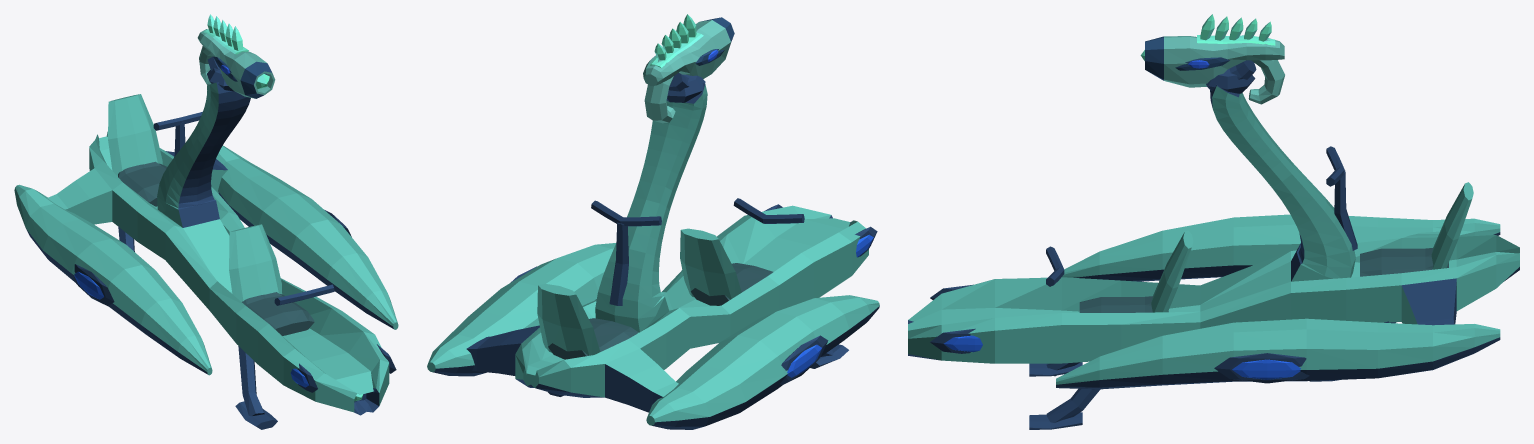
The picture shows the model from 3 angles, left to right: view 1: azimuth 30°, elevation 25°; view 2: azimuth 150°, elevation 25°; view 3: azimuth 270°, elevation 25°; orthographic projection. The views are drawn at different scales.
Parts seen in each view (by area): view 1: maian_hover_standin; view 2: maian_hover_standin; view 3: maian_hover_standin.
Boxes of the visible parts, bbox=[...] form: maian_hover_standin: bbox=[14, 14, 398, 429]; maian_hover_standin: bbox=[427, 14, 879, 429]; maian_hover_standin: bbox=[908, 14, 1519, 429].
Size of the model in its own units: 1686 by 2164 by 3100.
